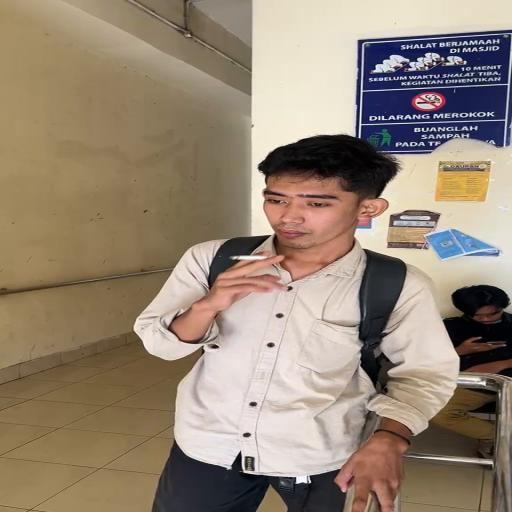pegang rokok: (178, 229, 304, 317)
